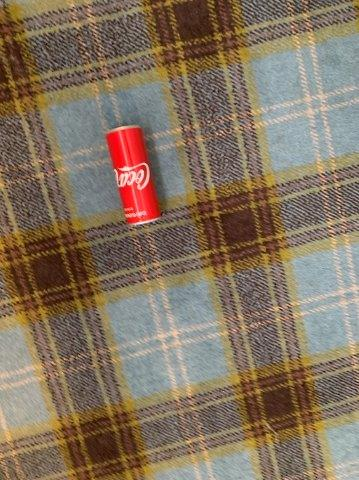kaleng: (106, 125, 161, 224)
